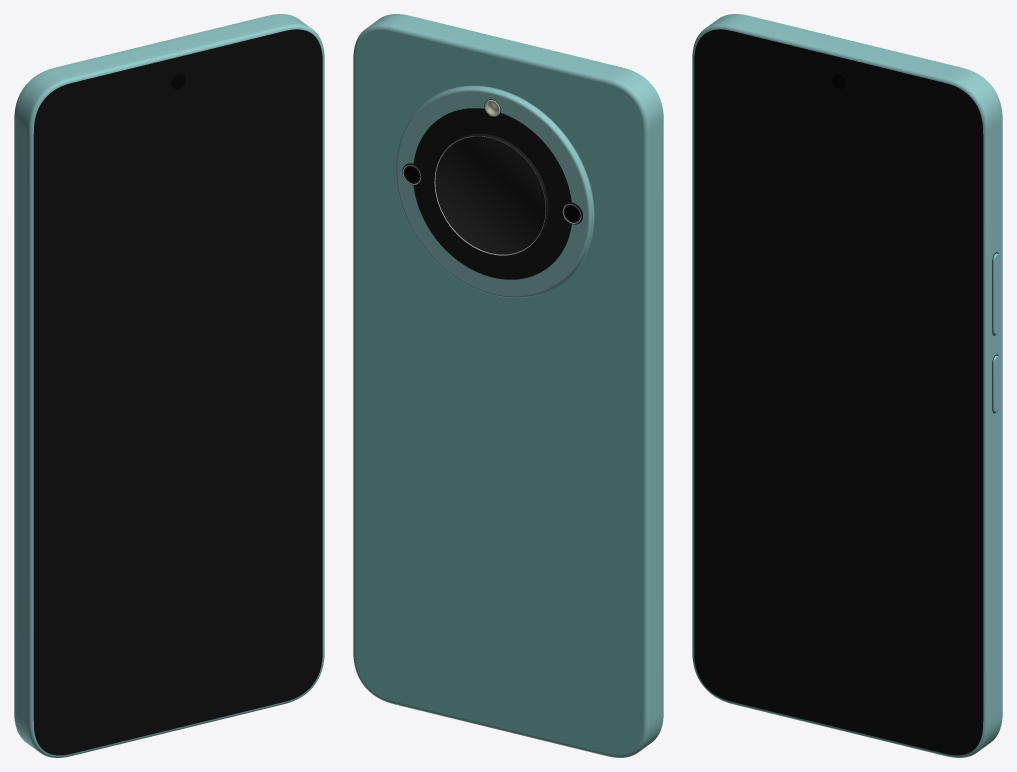
File: honor-x9c-smart.glb
3 views of the same model, side by side, from view 1: azimuth 30°, elevation 25°; view 2: azimuth 150°, elevation 25°; view 3: azimuth 330°, elevation 25° (orthographic).
Visible parts, largest first — view 1: body; view 2: body, camera; view 3: body, buttons.
Part boxes in pixels (bbox=[...]): body: bbox=[14, 14, 324, 757]; body: bbox=[353, 14, 663, 757]; camera: bbox=[396, 85, 594, 297]; body: bbox=[692, 14, 1002, 757]; buttons: bbox=[992, 252, 999, 413].
Bounding box in the file's own units: 76.23 × 166 × 10.48.
